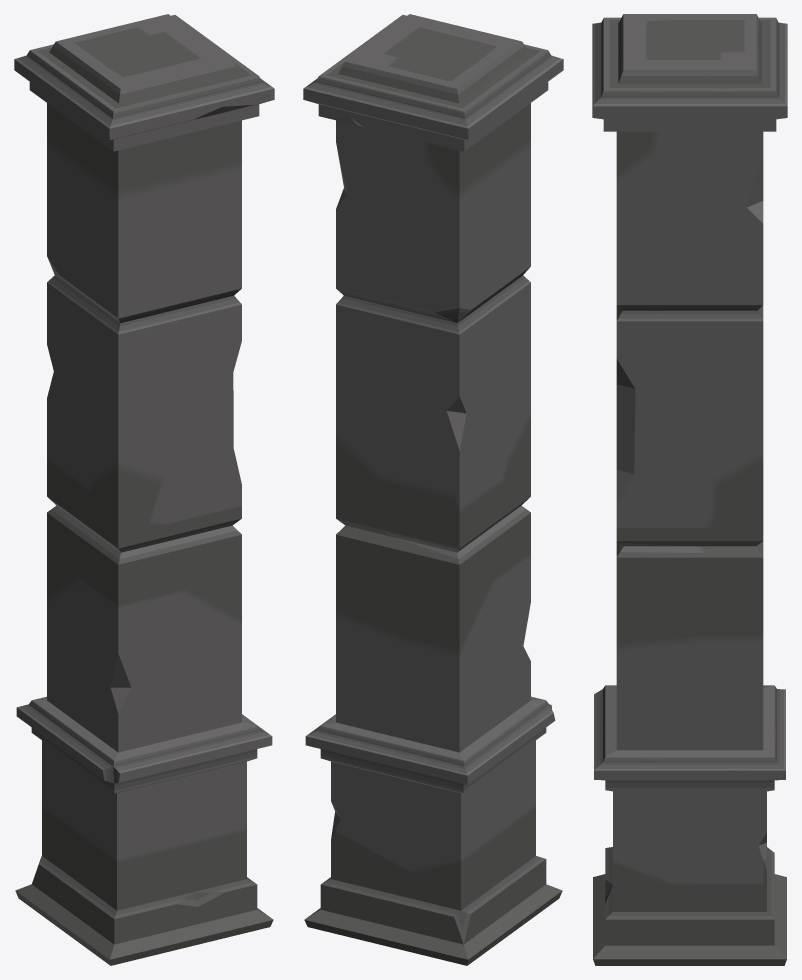
Rendered from SM_Bld_Fence_Pillar_01.fbx.
3 renders of one model, left to right at view 1: azimuth 30°, elevation 25°; view 2: azimuth 150°, elevation 25°; view 3: azimuth 270°, elevation 25°, orthographic. The views are drawn at different scales.
Parts seen in each view (by area): view 1: SM_Bld_Fence_Pillar_01; view 2: SM_Bld_Fence_Pillar_01; view 3: SM_Bld_Fence_Pillar_01.
Boxes of the visible parts, x1,y1,x2,y2 form: SM_Bld_Fence_Pillar_01: (14,14,274,965); SM_Bld_Fence_Pillar_01: (303,14,563,965); SM_Bld_Fence_Pillar_01: (592,14,787,965).
Bounding box in the file's own units: 80.11 × 402 × 80.11.
